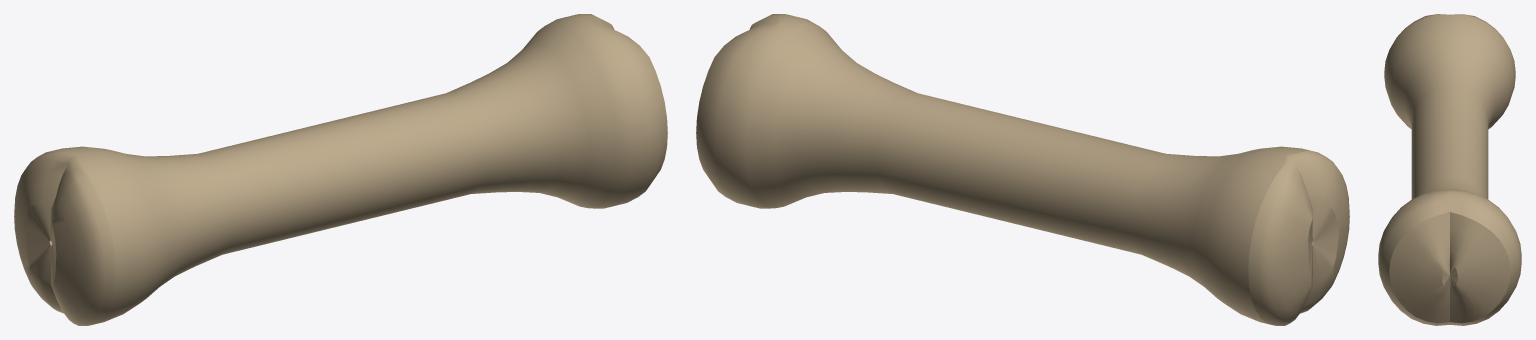
The model's file is Bone.fbx.
3 views of the same model, side by side, from view 1: azimuth 30°, elevation 25°; view 2: azimuth 150°, elevation 25°; view 3: azimuth 270°, elevation 25° (orthographic). The views are drawn at different scales.
Visible parts, largest first — view 1: Cylinder; view 2: Cylinder; view 3: Cylinder.
Boxes of the visible parts, <box> form: Cylinder: <box>14,14,667,325</box>; Cylinder: <box>696,14,1349,325</box>; Cylinder: <box>1378,14,1521,325</box>.
Bounding box in the file's own units: 1335 × 376 × 376.
